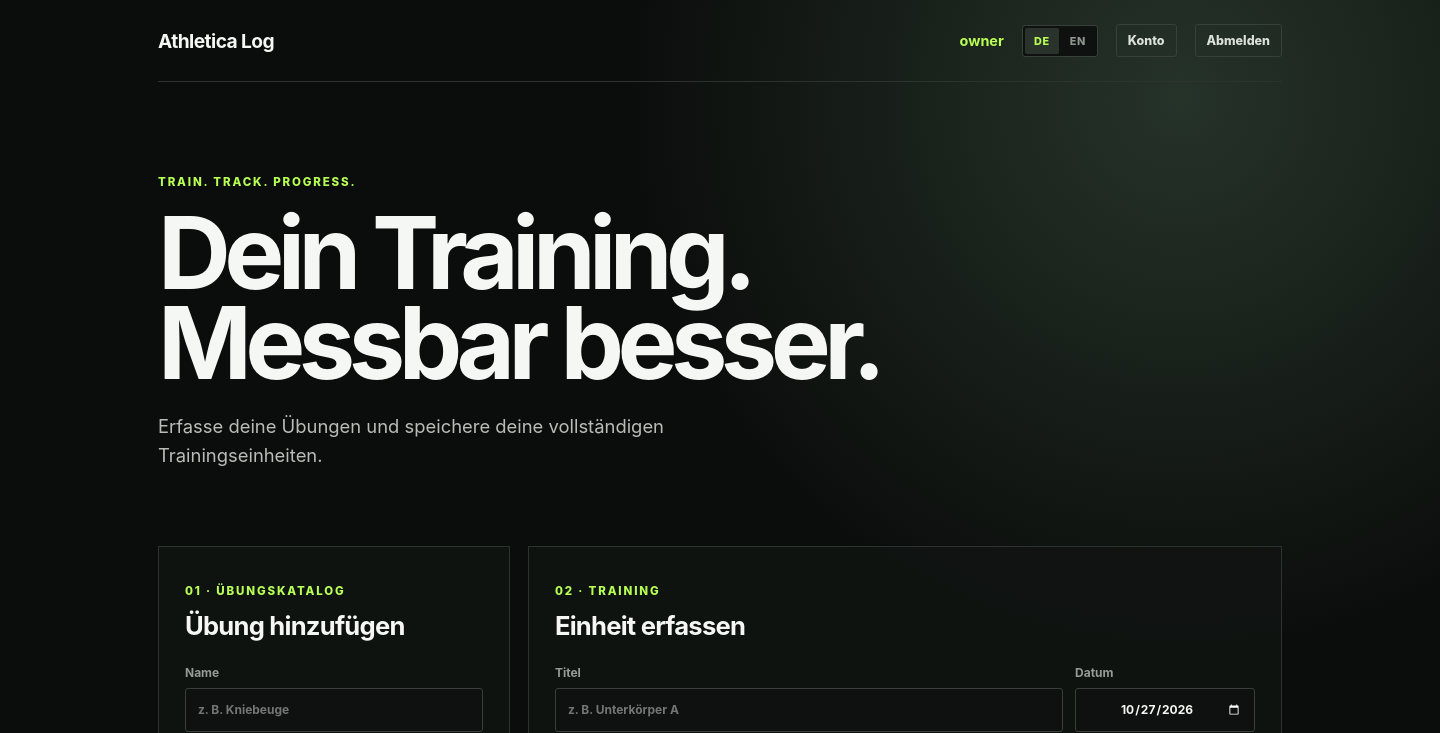
Scenario: Home › lists and revokes open tester invitations
Step 1. Click the button "Konto" → (1146, 40), box [1116,24,1176,57]
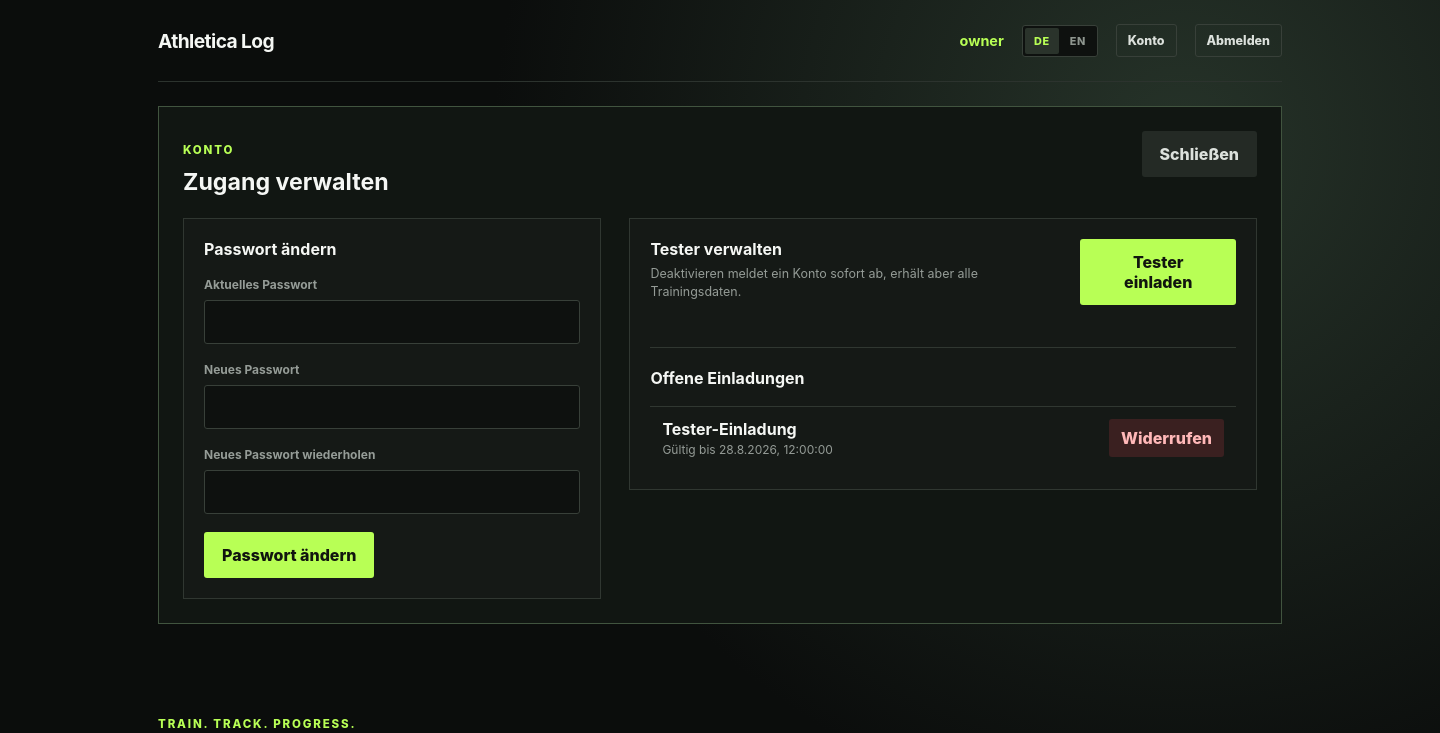
Now the text "Tester-Einladung" is shown, box [662,419,797,439]
Step 2. Click the button "Widerrufen" → (1166, 438), box [1109,419,1224,457]
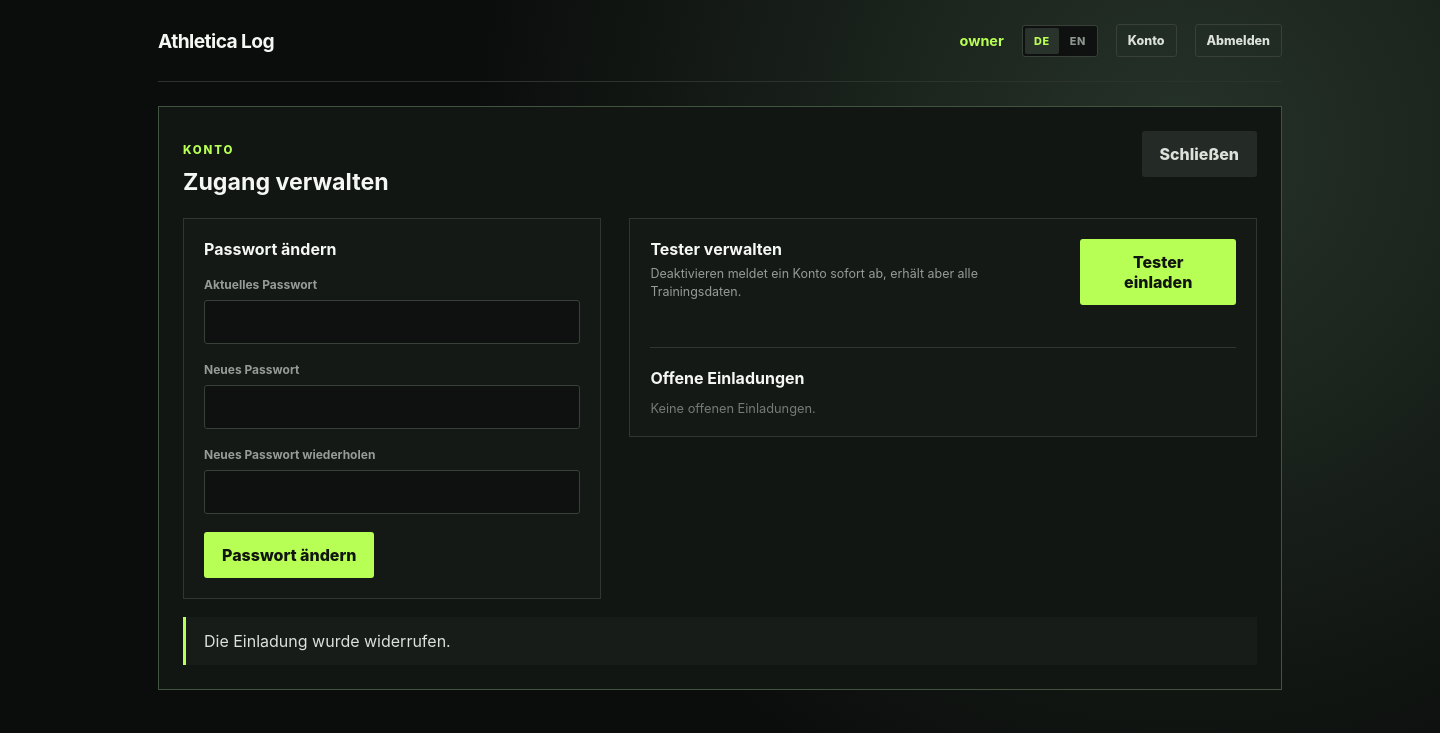
Now the text "Keine offenen Einladungen." is shown, box [650,401,816,416]
Now the message reads "Die Einladung wurde widerrufen.", box [204,631,451,651]
